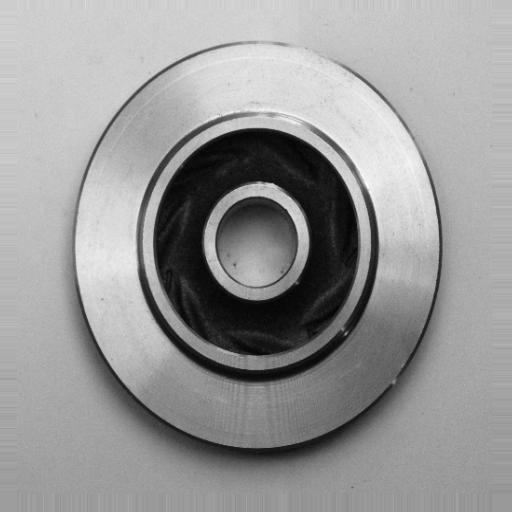scratch: (244, 92, 319, 137), (287, 32, 349, 81)
unpolished_casting: (72, 40, 444, 459)
